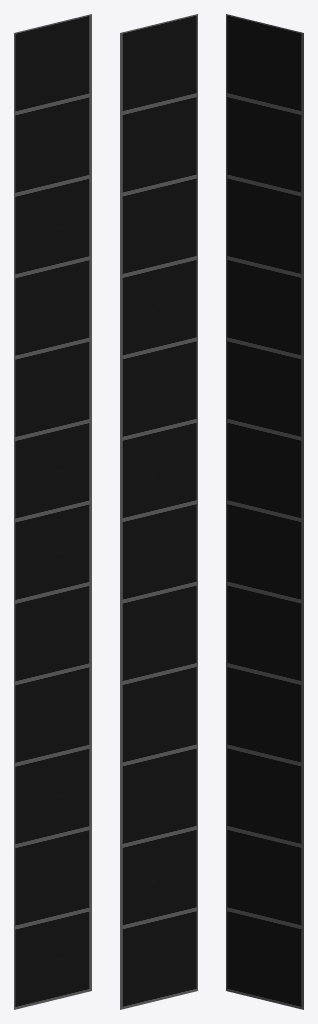
File: PRoll_Strip_Geo.fbx
3 views of the same model, side by side, from view 1: azimuth 30°, elevation 25°; view 2: azimuth 210°, elevation 25°; view 3: azimuth 330°, elevation 25° (orthographic).
Visible parts, largest first — view 1: pPlane1; view 2: pPlane1; view 3: pPlane1.
Part boxes in pixels (x1,y1,x2,y2): pPlane1: (14, 14, 91, 1009); pPlane1: (120, 14, 197, 1009); pPlane1: (226, 14, 303, 1009).
Bounding box in the file's own units: 100 × 1200 × 1.01e-13.
1 material, 1 textured.
